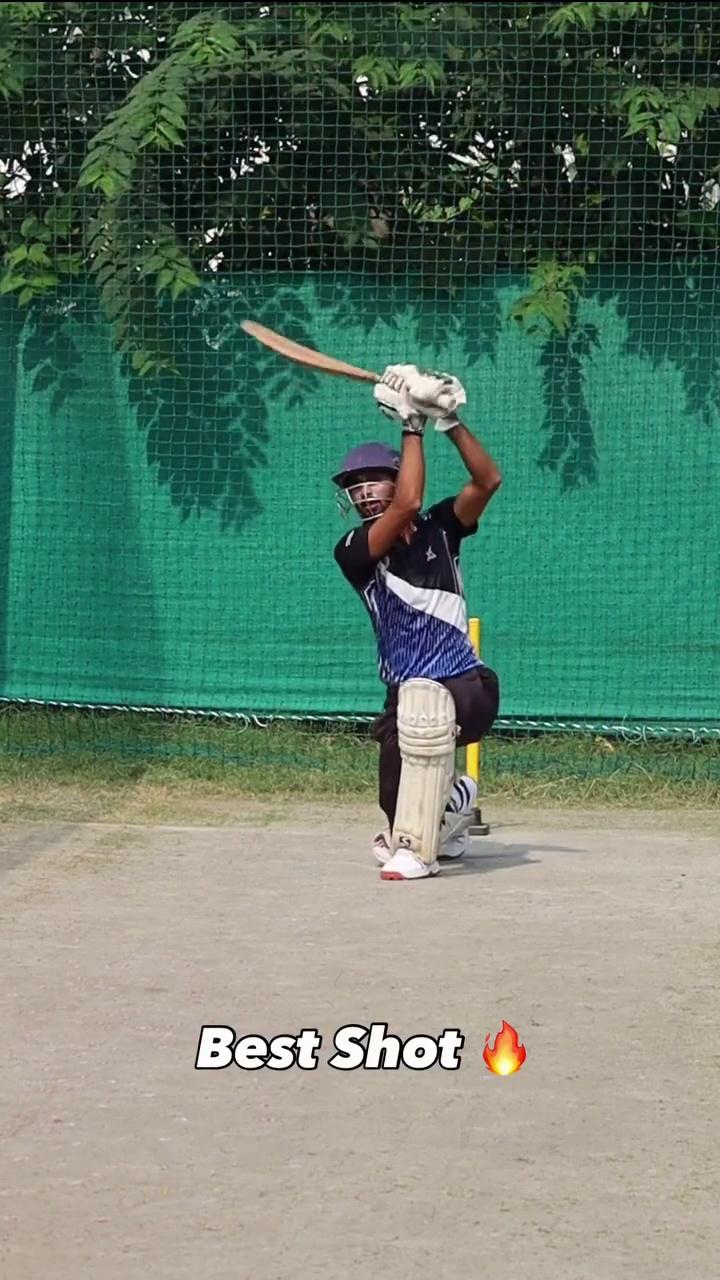bat: (235, 315, 382, 398)
